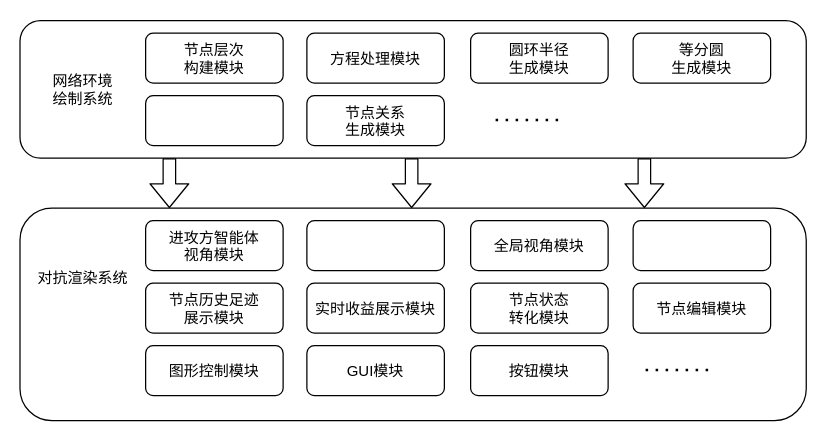
This 826x441 diagram has some shape labels left out. The centre of each missing label's shape, as x and y in pixels:
"最小公倍数 计算模块" goes at point (213, 120).
"节点信息展示模块" goes at point (701, 245).
"防守方智能体 视角模块" goes at point (375, 245).
